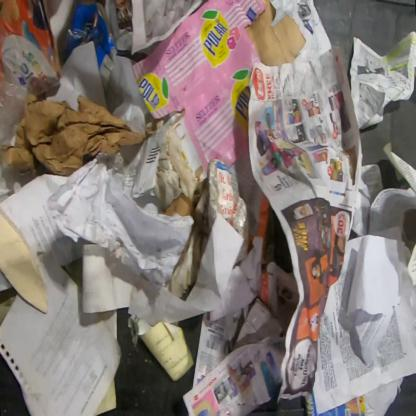cardboard: (131, 0, 308, 183), (0, 0, 64, 99), (232, 296, 283, 350)
soft_plastic: (63, 0, 118, 94), (0, 84, 29, 149)
